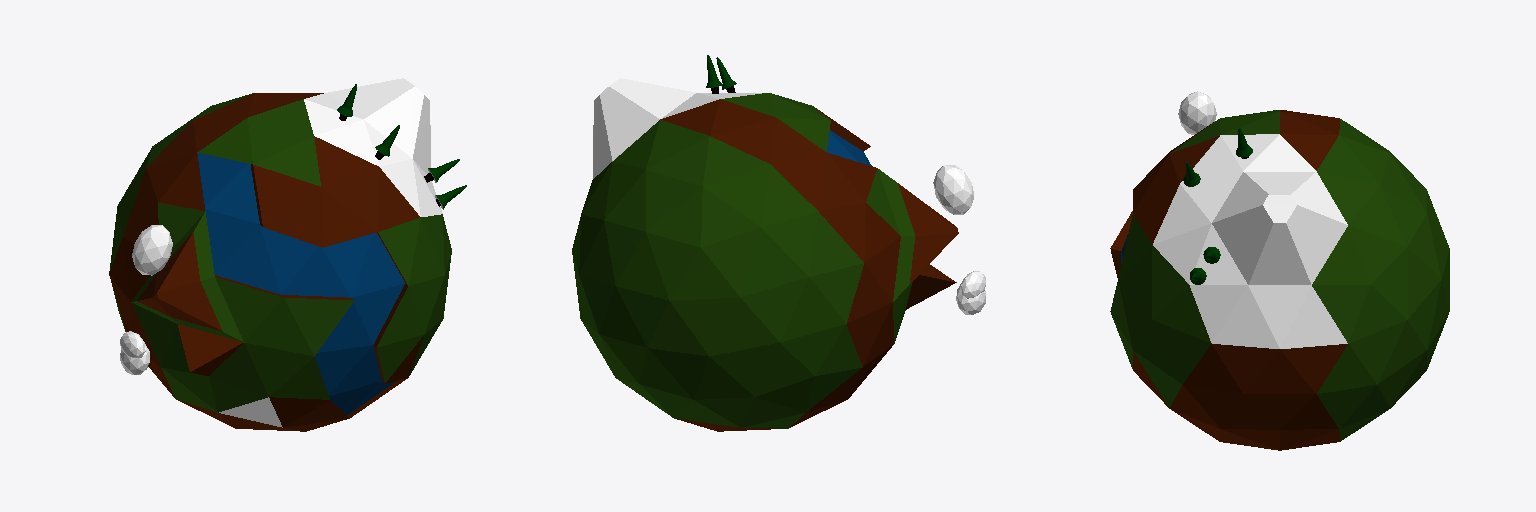
The model's file is Earth.obj.
3 renders of one model, left to right at view 1: azimuth 30°, elevation 25°; view 2: azimuth 150°, elevation 25°; view 3: azimuth 270°, elevation 25°, orthographic.
Parts seen in each view (by area): view 1: GeoSphere001_1_1, GeoSphere001_1, GeoSphere001_1_2, GeoSphere001_1_3, GeoSphere001_1_4; view 2: GeoSphere001_1_1, GeoSphere001_1, GeoSphere001_1_3, GeoSphere001_1_2, GeoSphere001_1_4; view 3: GeoSphere001_1_1, GeoSphere001_1_3, GeoSphere001_1, GeoSphere001_1_4.
Part boxes in pixels (bbox=[...]): GeoSphere001_1_1: bbox=[109, 93, 451, 412]; GeoSphere001_1: bbox=[109, 93, 423, 431]; GeoSphere001_1_2: bbox=[197, 153, 404, 414]; GeoSphere001_1_3: bbox=[120, 78, 442, 427]; GeoSphere001_1_4: bbox=[337, 84, 466, 208]; GeoSphere001_1_1: bbox=[572, 93, 914, 428]; GeoSphere001_1: bbox=[660, 99, 958, 431]; GeoSphere001_1_3: bbox=[593, 78, 985, 314]; GeoSphere001_1_2: bbox=[827, 130, 871, 165]; GeoSphere001_1_4: bbox=[706, 55, 736, 89]; GeoSphere001_1_1: bbox=[1110, 110, 1449, 441]; GeoSphere001_1_3: bbox=[1153, 91, 1347, 348]; GeoSphere001_1: bbox=[1110, 110, 1347, 450]; GeoSphere001_1_4: bbox=[1183, 128, 1252, 284].
Bounding box in the file's own units: 83.99 × 76.97 × 70.93.